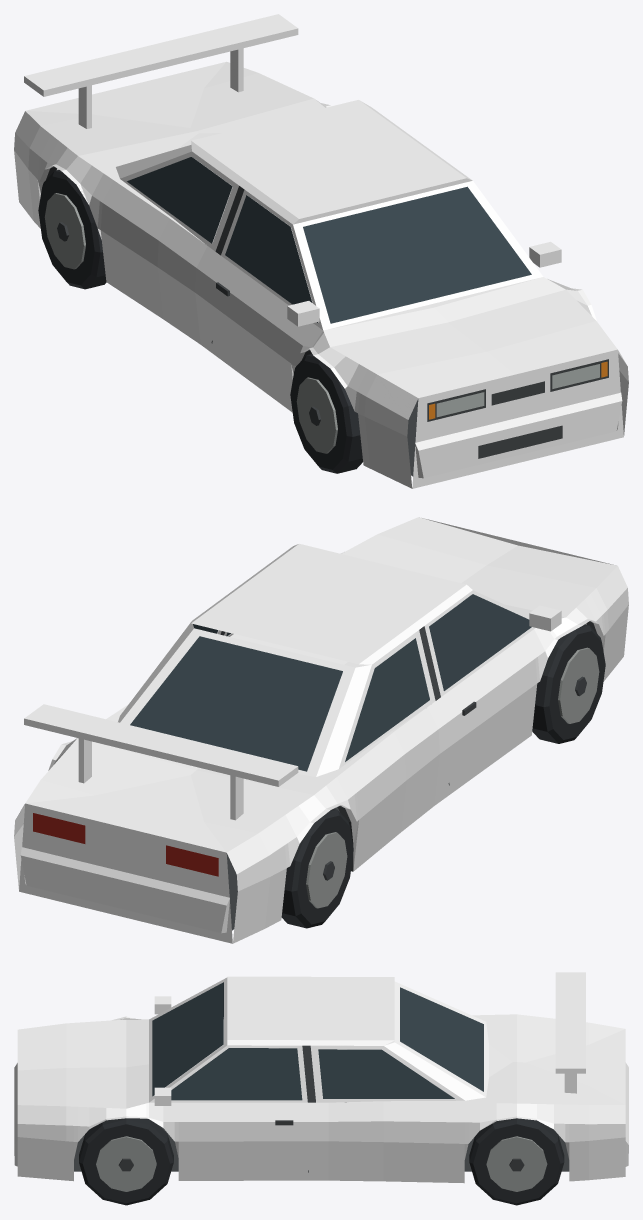
Rendered from hayase_kiri_corrida_98.glb.
3 renders of one model, top to bottom at view 1: azimuth 30°, elevation 25°; view 2: azimuth 150°, elevation 25°; view 3: azimuth 270°, elevation 25°, orthographic. The views are drawn at different scales.
Visible parts, largest first — view 1: hayase_kiri_corrida_98; view 2: hayase_kiri_corrida_98; view 3: hayase_kiri_corrida_98.
Boxes of the visible parts, <box> form: hayase_kiri_corrida_98: <box>14,14,628,488</box>; hayase_kiri_corrida_98: <box>14,517,628,943</box>; hayase_kiri_corrida_98: <box>14,972,628,1205</box>.
Size of the model in its own units: 1.74 by 1.19 by 4.44.
Materials: 8 (1 with a texture image).
